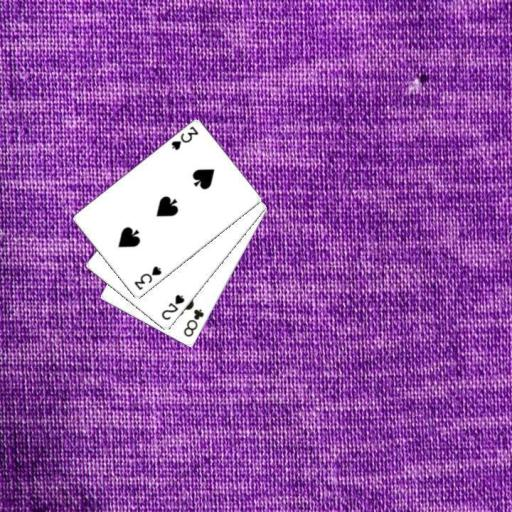card-corner: (131, 263, 163, 292), (168, 123, 200, 152), (158, 292, 186, 322), (180, 306, 206, 338)
